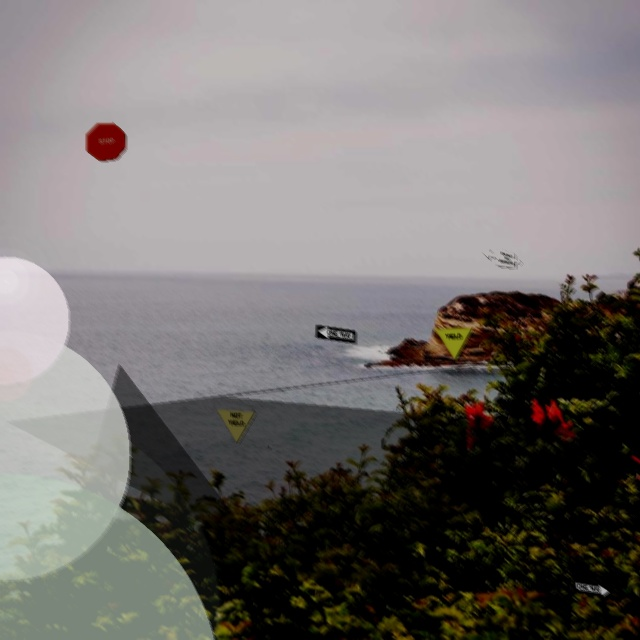DO_NOT_GO_AROUND: (480, 247, 521, 268)
NOT_YIELD: (214, 408, 255, 444)
ONE_WAY_ left: (314, 324, 355, 343)
ONE_WAY_ right: (572, 579, 613, 598)
STOP: (84, 122, 125, 161)
YIELD: (432, 326, 473, 361)
